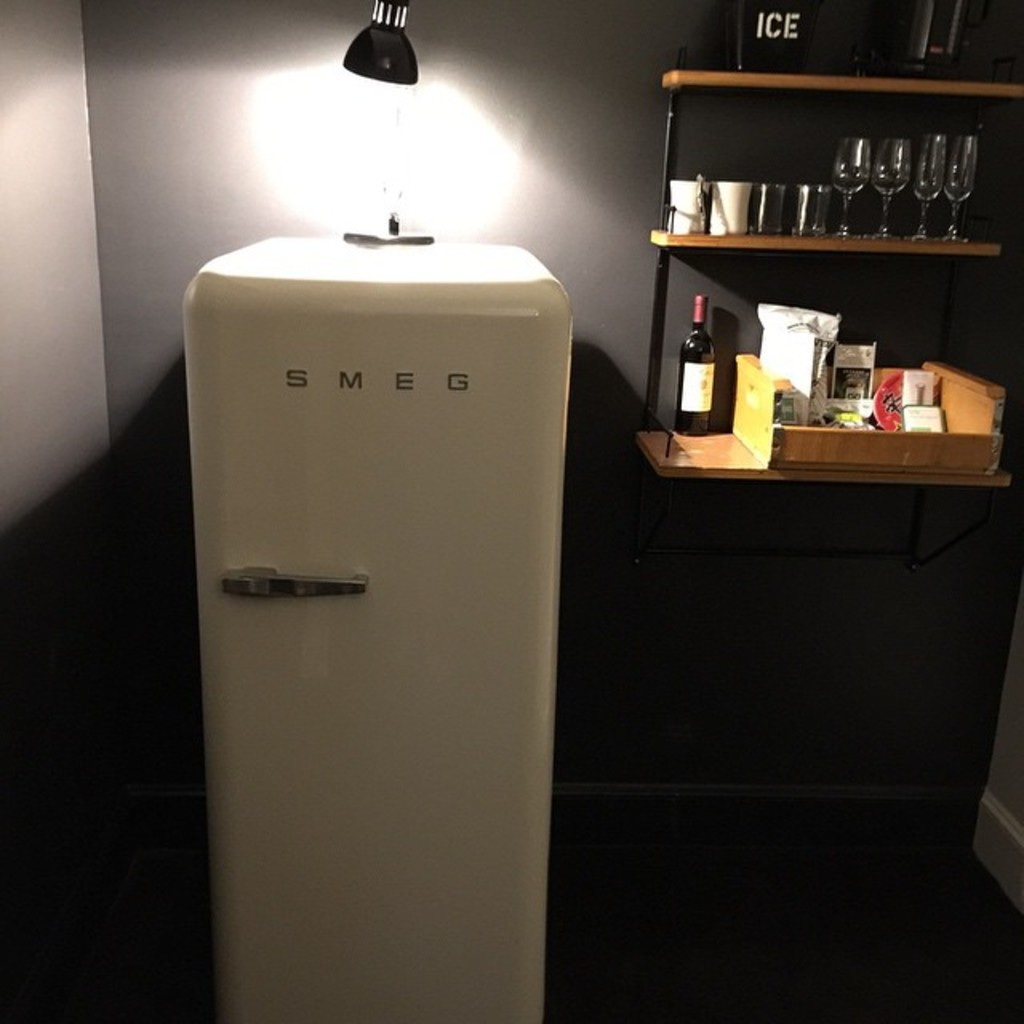handle: (215, 560, 372, 614)
refrigerator door: (194, 310, 566, 1017)
